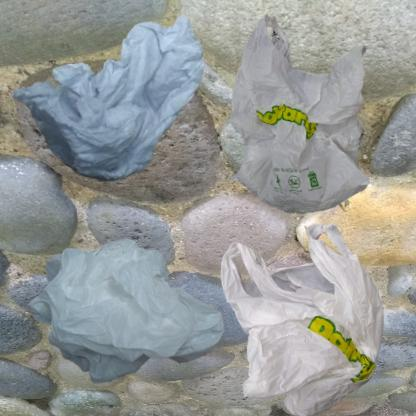bolsa: (10, 213, 272, 416), (213, 10, 404, 236), (213, 213, 410, 416)
papel: (10, 10, 206, 184)
